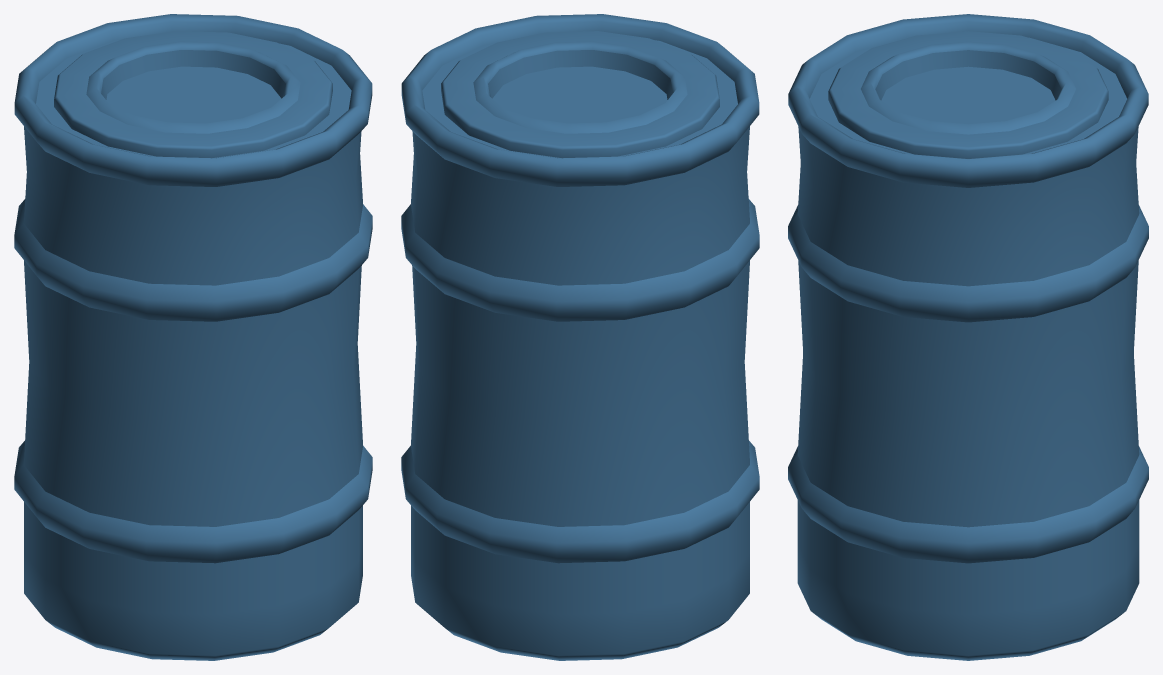
File: Blue barrel.fbx
3 renders of one model, left to right at view 1: azimuth 30°, elevation 25°; view 2: azimuth 150°, elevation 25°; view 3: azimuth 270°, elevation 25°, orthographic.
Parts seen in each view (by area): view 1: pCylinder4; view 2: pCylinder4; view 3: pCylinder4.
Boxes of the visible parts, x1,y1,x2,y2 form: pCylinder4: (14, 14, 372, 660); pCylinder4: (401, 14, 759, 660); pCylinder4: (788, 14, 1148, 660).
Size of the model in its own units: 45.05 by 70.34 by 45.05.
